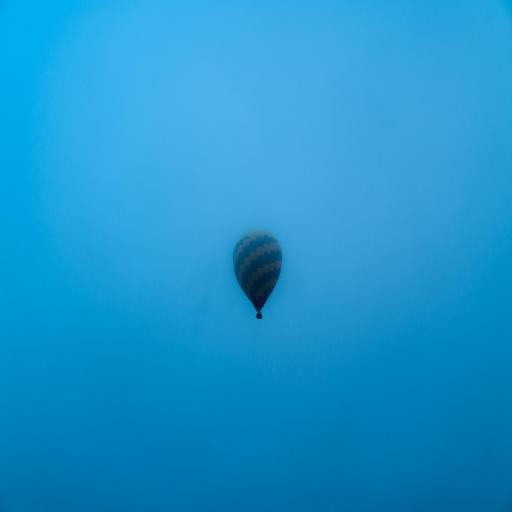hot air ballon: (230, 226, 284, 322)
